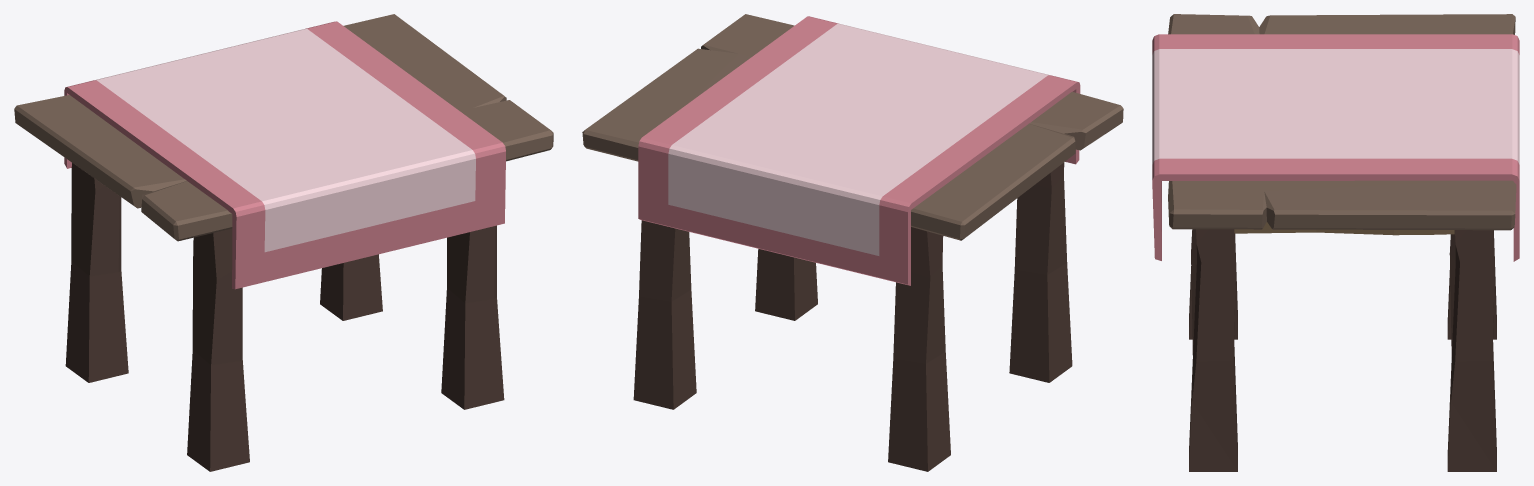
Rendered from table_small_blanket.fbx.
The picture shows the model from 3 angles, left to right: view 1: azimuth 30°, elevation 25°; view 2: azimuth 150°, elevation 25°; view 3: azimuth 270°, elevation 25°; orthographic projection. The views are drawn at different scales.
Visible parts, largest first — view 1: Cube.001; view 2: Cube.001; view 3: Cube.001.
Boxes of the visible parts, x1,y1,x2,y2 form: Cube.001: (14,14,553,471); Cube.001: (582,14,1123,471); Cube.001: (1152,14,1519,471).
Size of the model in its own units: 1.16 by 0.9034 by 0.7852.
